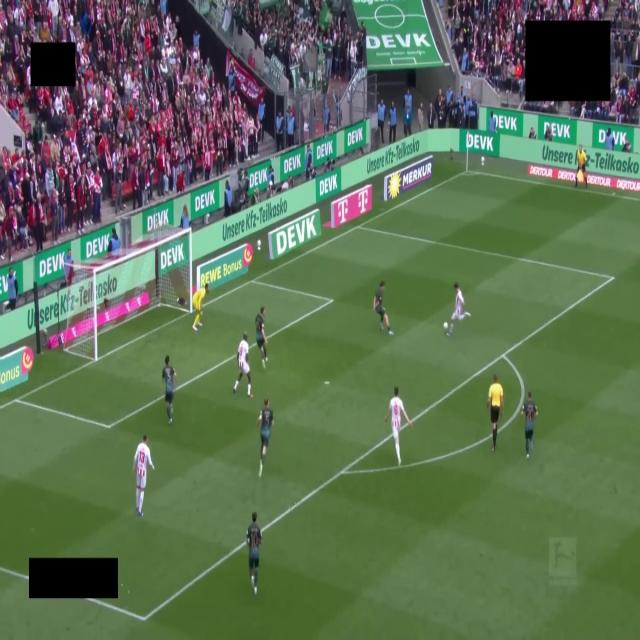ball: (444, 322, 448, 330)
player: (385, 387, 412, 466), (133, 435, 155, 517), (257, 399, 273, 477), (246, 512, 261, 595), (233, 333, 252, 398), (447, 283, 470, 336), (521, 392, 537, 458), (374, 280, 393, 335), (162, 356, 175, 424), (193, 284, 209, 330), (256, 306, 267, 367)
referee: (488, 375, 503, 451)
